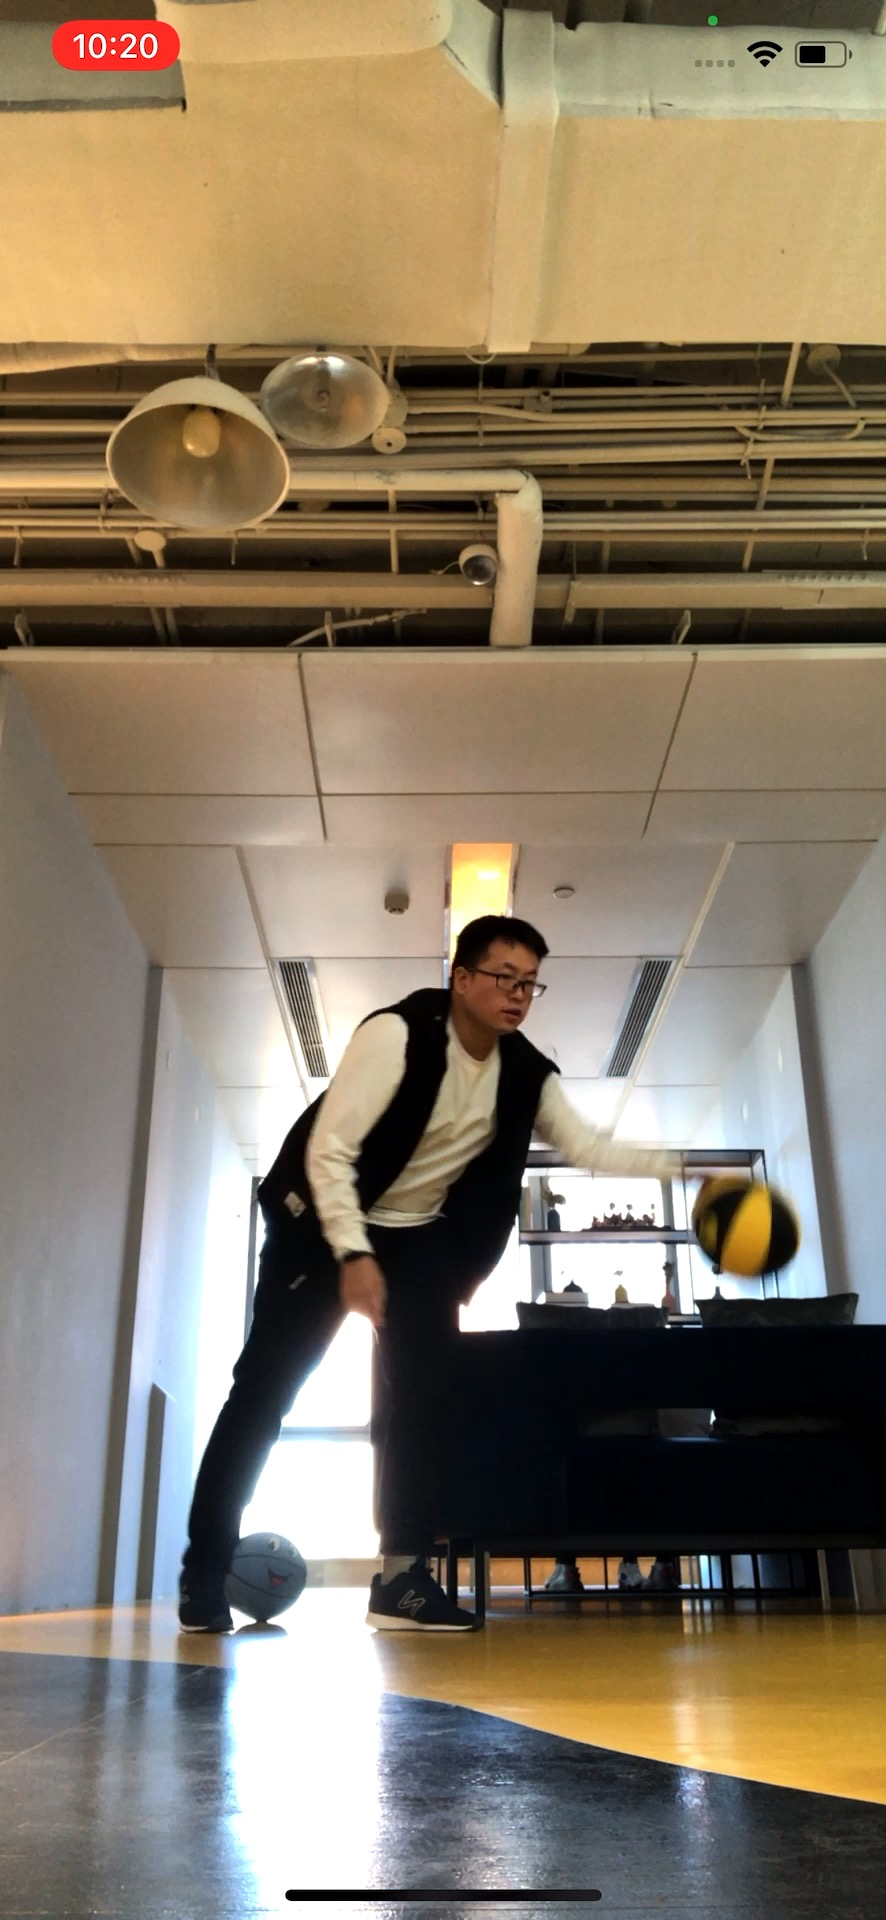ball: (691, 1178, 802, 1276), (223, 1531, 310, 1619)
